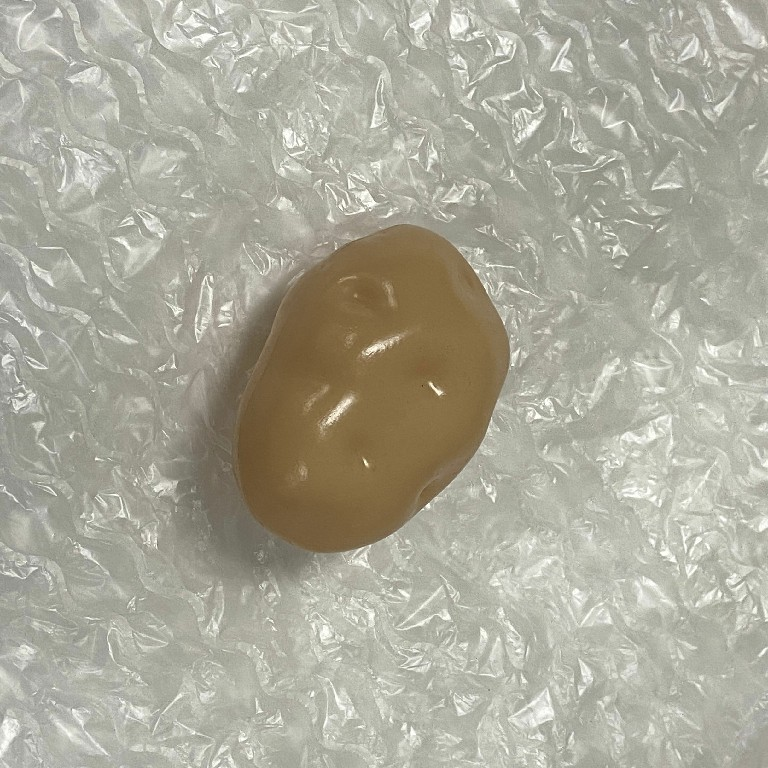fruit_potato: (229, 220, 515, 559)
